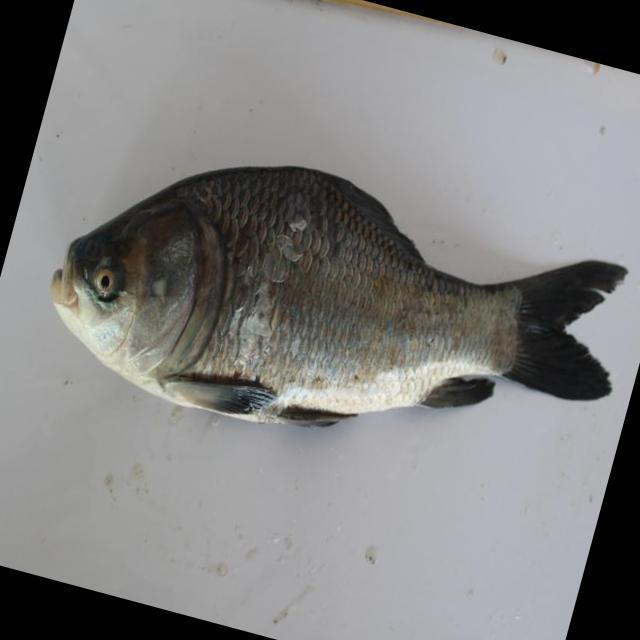Catla: (28, 157, 624, 451)
